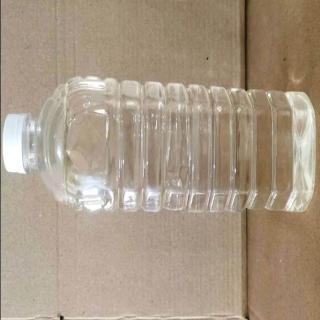Anorganik: (1, 78, 317, 216)
